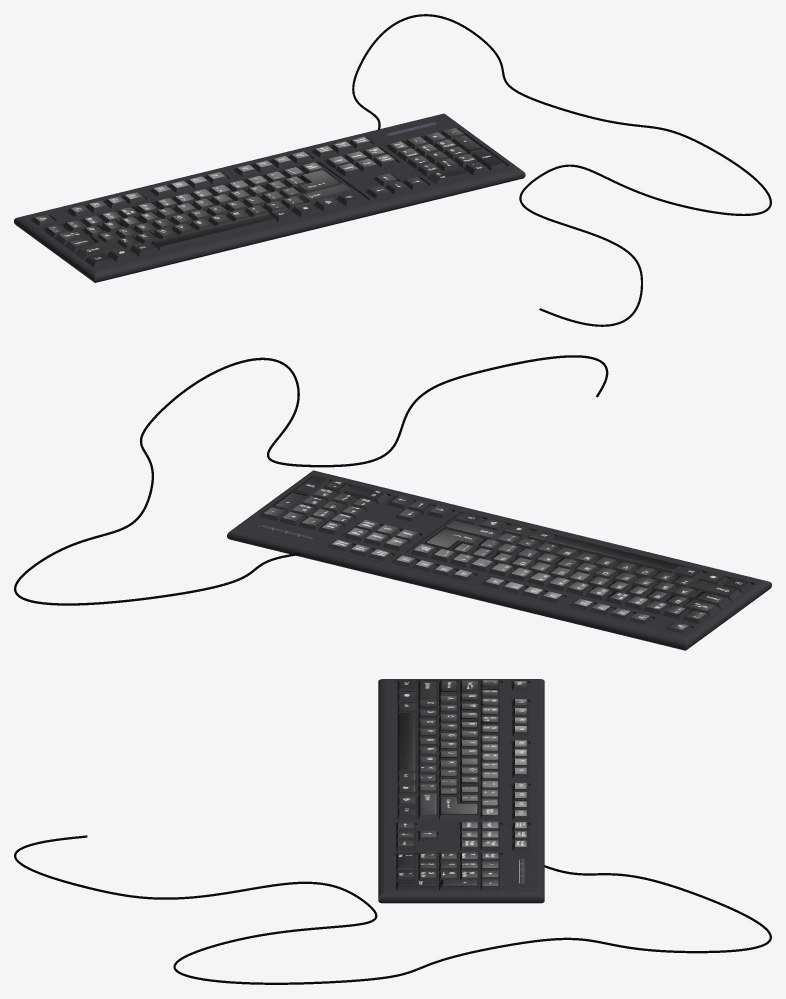
Rendered from keyboard.glb.
3 renders of one model, top to bottom at view 1: azimuth 30°, elevation 25°; view 2: azimuth 150°, elevation 25°; view 3: azimuth 270°, elevation 25°, orthographic. The views are drawn at different scales.
Parts seen in each view (by area): view 1: Cube.020_2, Cube.021_1, BezierCurve_3; view 2: Cube.020_2, Cube.021_1, BezierCurve_3; view 3: Cube.020_2, Cube.021_1, BezierCurve_3.
Part boxes in pixels (left/top/right/bottom): Cube.020_2: left=31, top=127, right=506, bottom=266; Cube.021_1: left=14, top=113, right=525, bottom=282; BezierCurve_3: left=352, top=14, right=771, bottom=326; Cube.020_2: left=260, top=475, right=752, bottom=633; Cube.021_1: left=227, top=470, right=771, bottom=650; BezierCurve_3: left=14, top=355, right=608, bottom=605; Cube.020_2: left=396, top=680, right=529, bottom=890; Cube.021_1: left=378, top=679, right=544, bottom=903; BezierCurve_3: left=14, top=835, right=771, bottom=984.
Bounding box in the file's own units: 25.58 × 0.5394 × 27.07.
6 materials, 1 textured.
